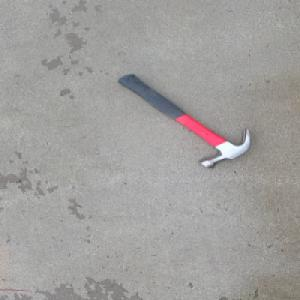Hammer: (117, 74, 253, 170)
